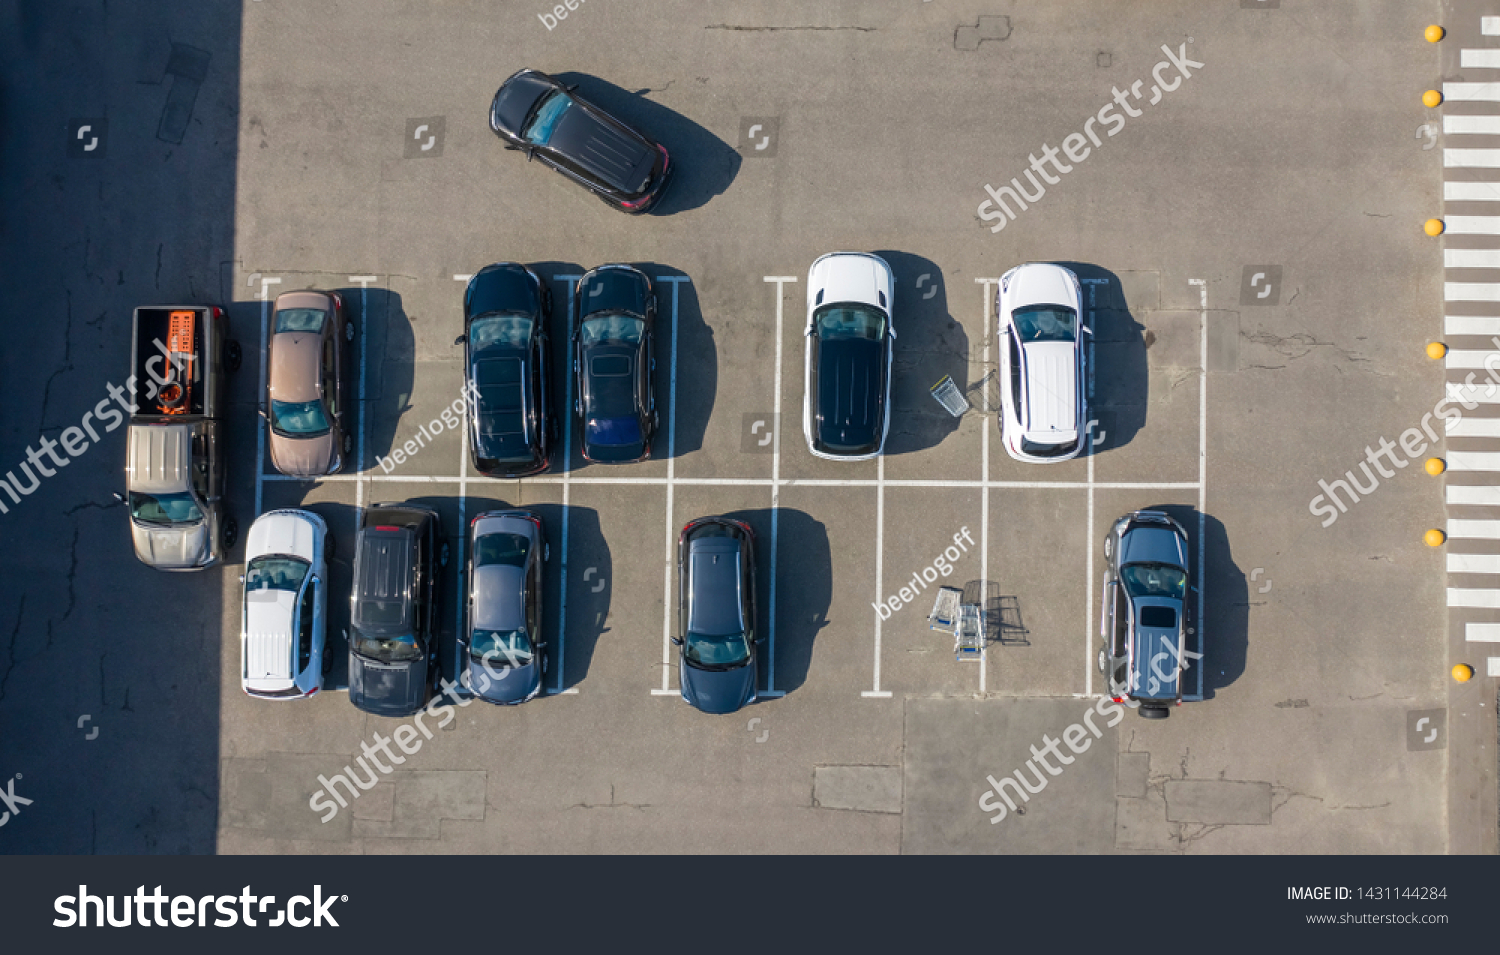Car: (116, 293, 235, 580), (228, 502, 338, 710), (1095, 506, 1198, 726), (798, 249, 898, 465), (994, 262, 1094, 467), (263, 286, 352, 482)
LaneMark: (259, 474, 1202, 486), (1197, 279, 1207, 704), (765, 281, 785, 479), (665, 280, 682, 476), (1081, 488, 1098, 694), (555, 485, 572, 691), (658, 484, 675, 688), (975, 486, 991, 694), (765, 487, 780, 694), (355, 281, 370, 474), (871, 488, 884, 693), (980, 282, 991, 484), (1429, 110, 1500, 137), (1435, 212, 1500, 240), (1442, 278, 1500, 306), (1435, 76, 1500, 101), (1435, 447, 1500, 471), (1431, 145, 1500, 167), (1432, 177, 1500, 199), (1439, 382, 1500, 406), (1442, 346, 1500, 370), (1444, 485, 1500, 509), (1439, 246, 1500, 268), (1435, 587, 1498, 608), (1442, 553, 1500, 571), (1441, 315, 1500, 332), (1445, 519, 1500, 535), (1445, 420, 1500, 435), (1455, 49, 1500, 67), (1462, 622, 1500, 639), (1475, 12, 1500, 30), (1483, 656, 1500, 669)
